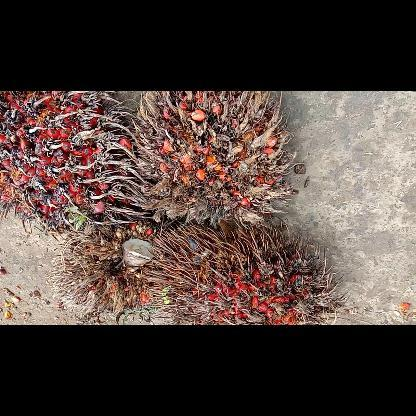Terlalu masak: (124, 90, 301, 232), (148, 222, 348, 324), (0, 91, 143, 230), (42, 214, 167, 324)
